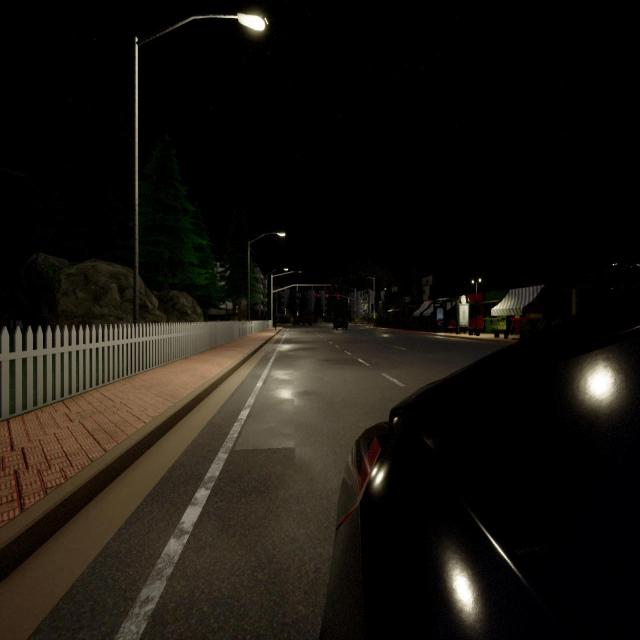Pedestrian: (273, 318, 278, 330)
Vehicle: (320, 290, 640, 640), (333, 315, 348, 331), (302, 315, 313, 326), (293, 317, 300, 326)
traffic_light: (296, 285, 298, 291), (326, 294, 328, 298), (336, 294, 338, 298), (354, 309, 356, 313), (318, 295, 320, 297)
